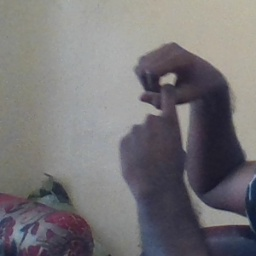Q: (119, 39, 209, 165)
